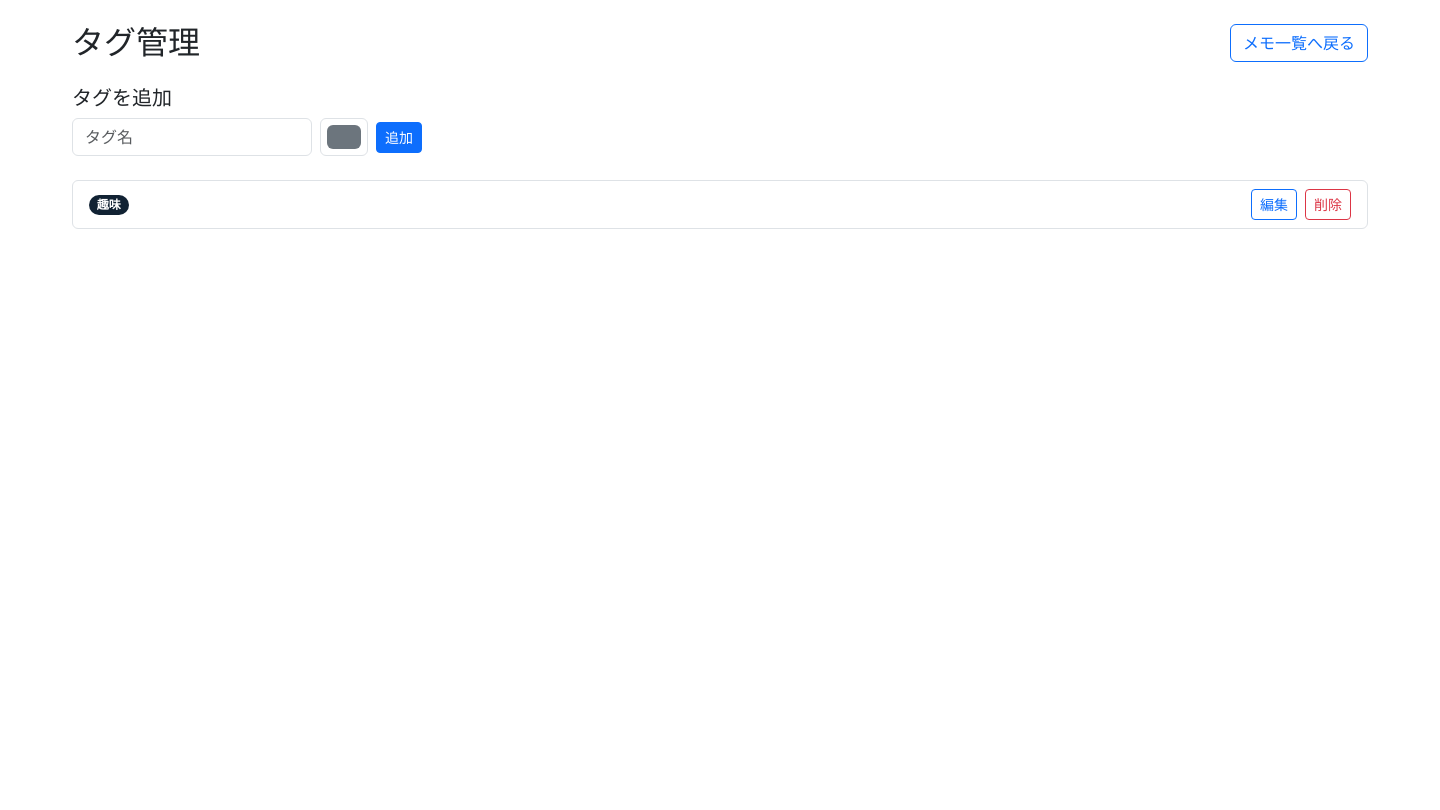
Test: TagsPage › 改名すると一覧の表示が変わる
Click the button "編集" at (1274, 205), box x1=1251 y1=189 x2=1297 y2=220
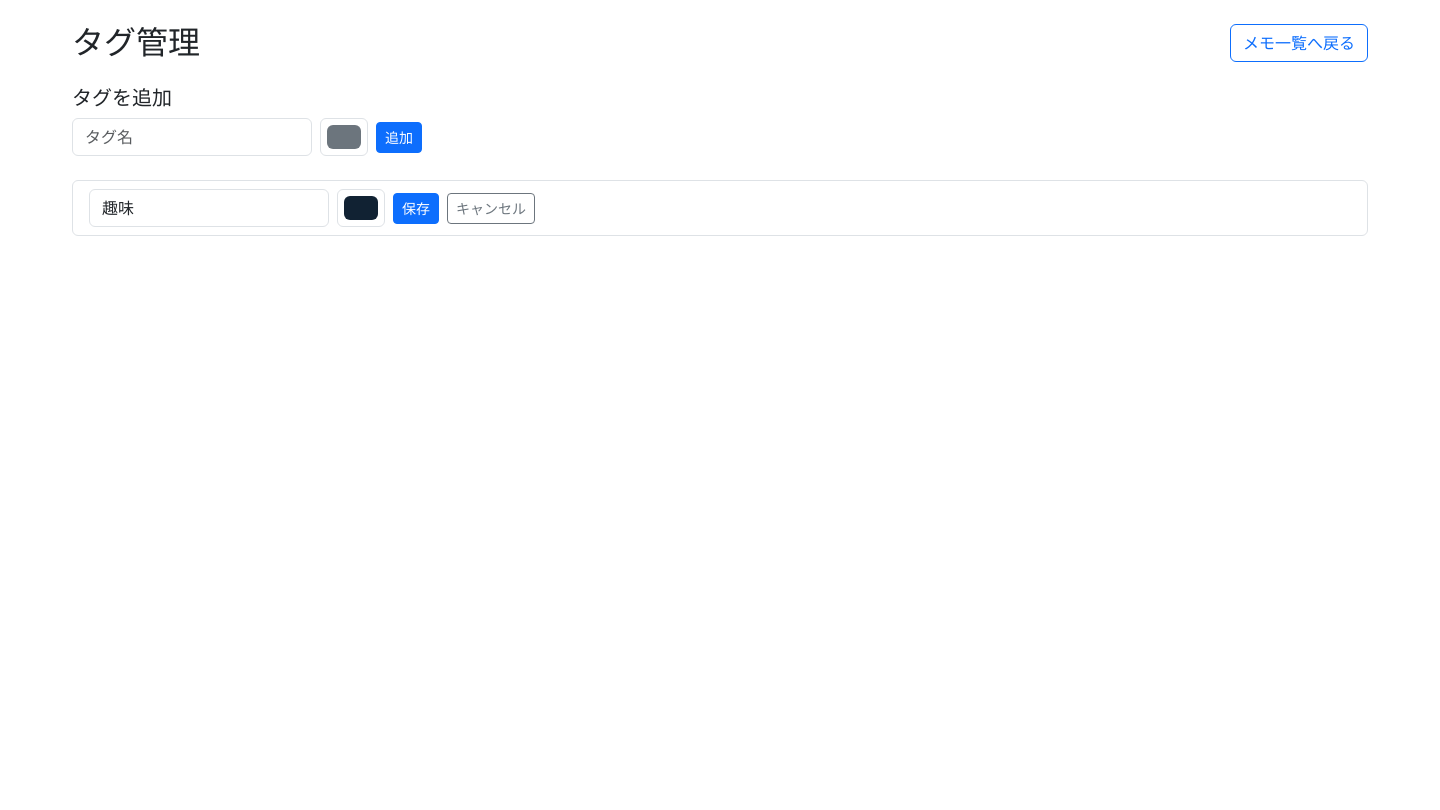
Replace the text in the field named "タグ名" with "趣味2" at (209, 208), box x1=89 y1=189 x2=329 y2=227
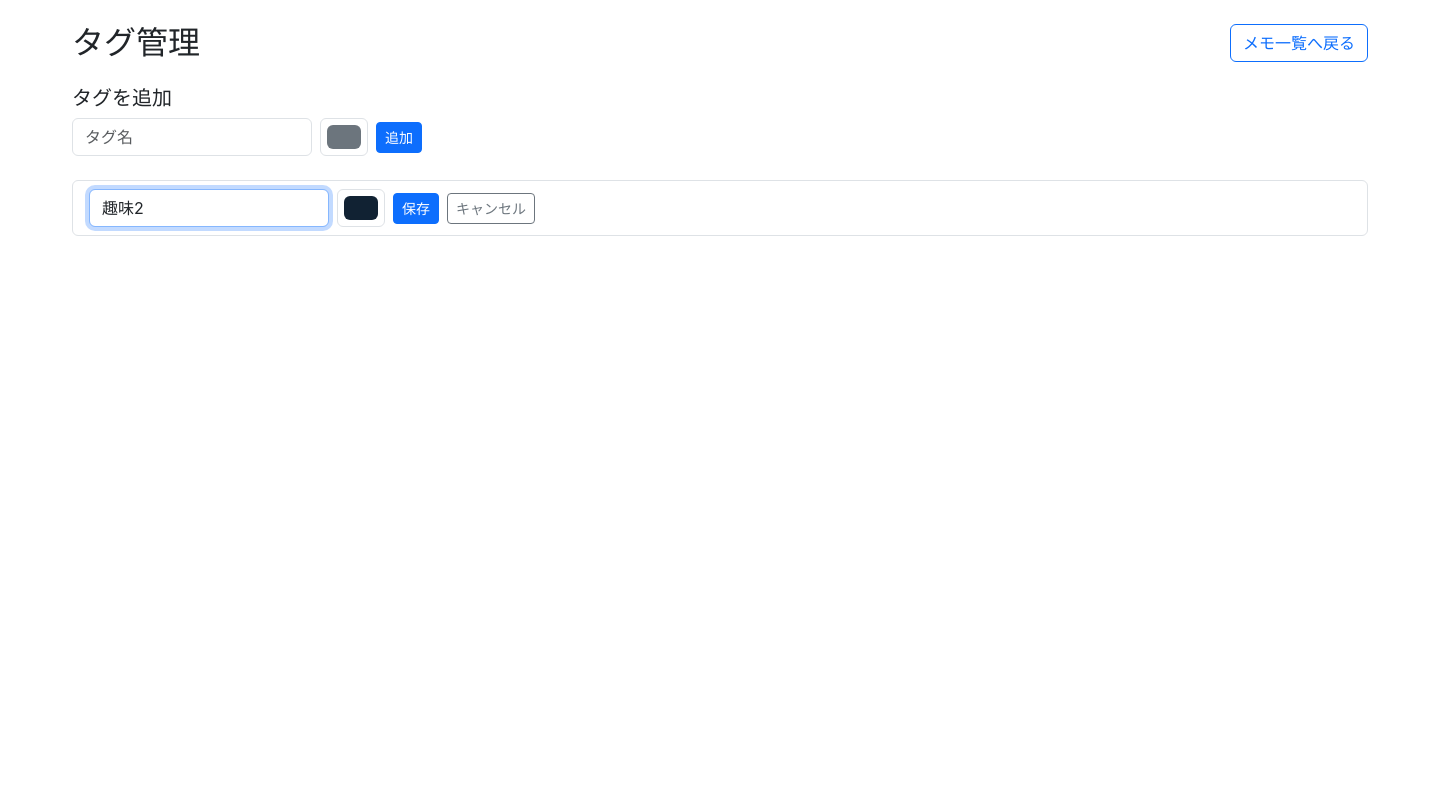
Click the button "保存" at (416, 208), box x1=393 y1=193 x2=439 y2=224
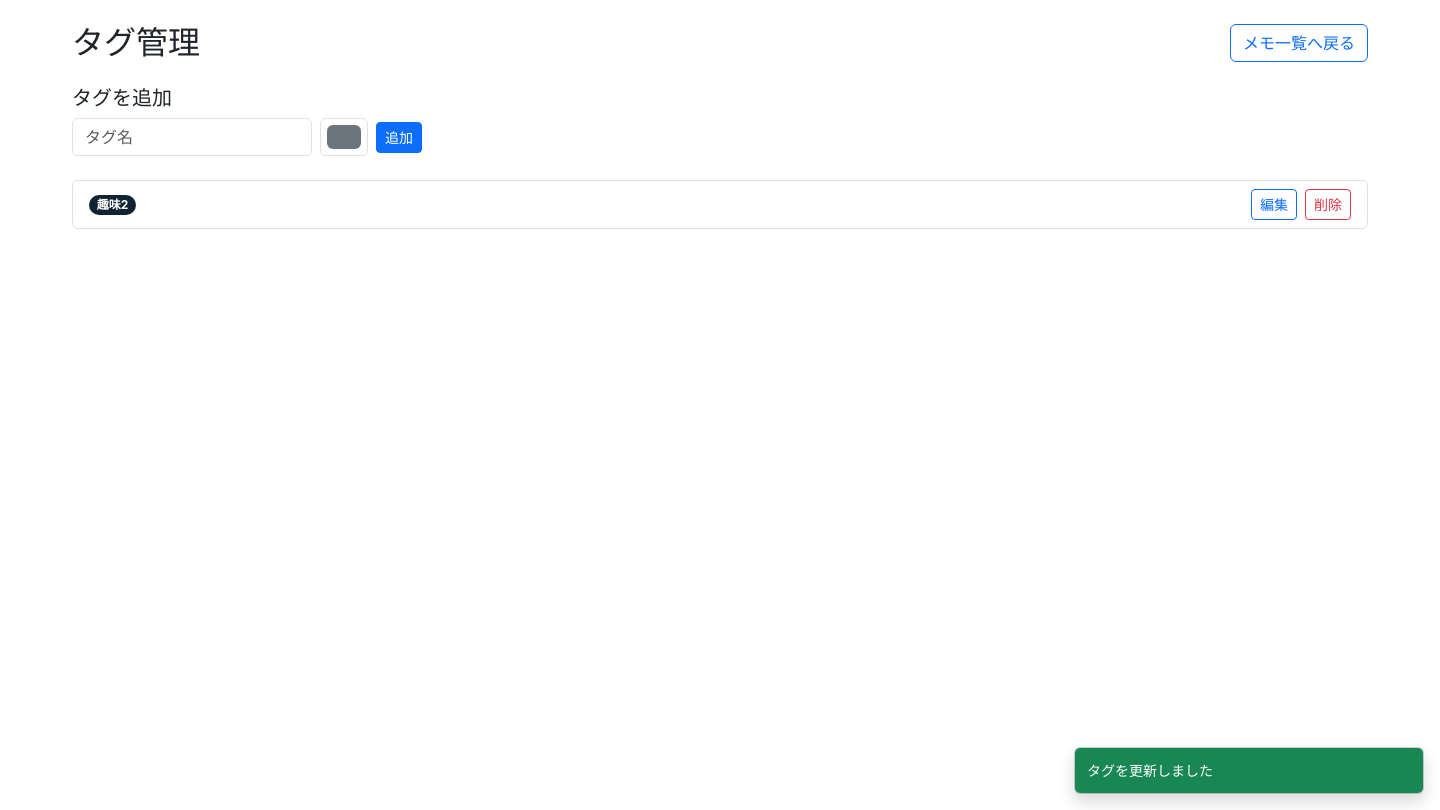
Now the text "趣味2" is shown, box x1=89 y1=195 x2=136 y2=215
